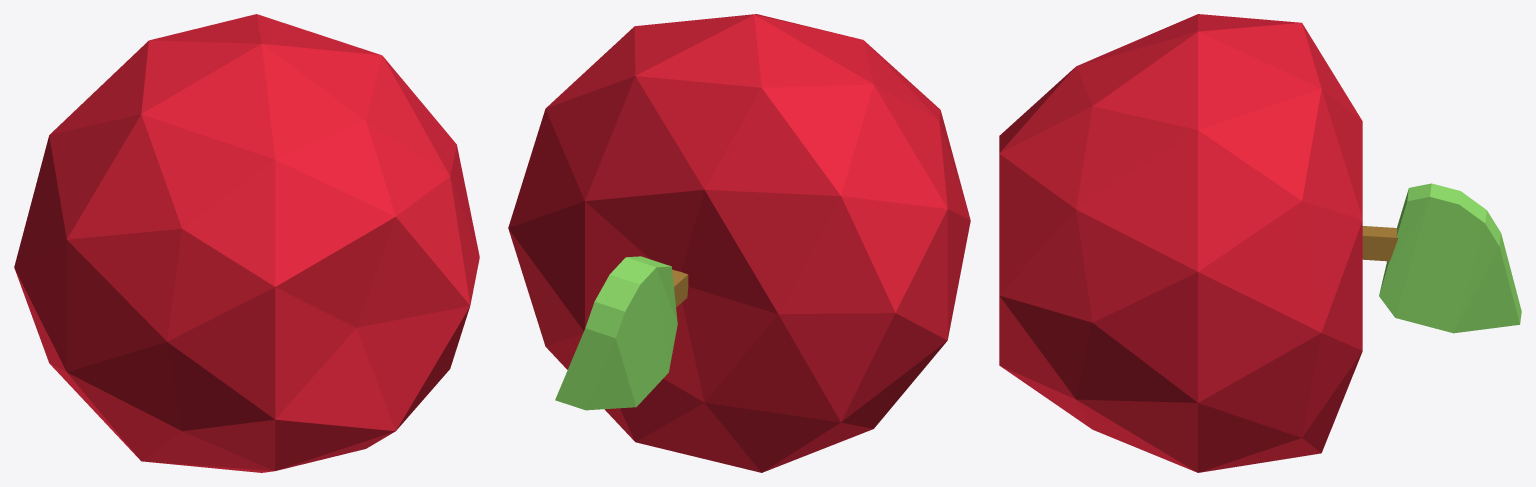
The model's file is apple.dae.
3 renders of one model, left to right at view 1: azimuth 30°, elevation 25°; view 2: azimuth 150°, elevation 25°; view 3: azimuth 270°, elevation 25°, orthographic.
Parts seen in each view (by area): view 1: Icosphere; view 2: Icosphere, Cube.001; view 3: Icosphere, Cube.001, Cube.
Part boxes in pixels (x1,y1,x2,y2): Icosphere: [14, 14, 479, 472]; Icosphere: [508, 14, 970, 472]; Cube.001: [555, 256, 677, 410]; Icosphere: [999, 14, 1362, 472]; Cube.001: [1379, 183, 1521, 333]; Cube: [1362, 226, 1398, 261].
Bounding box in the file's own units: 1.9 × 2.23 × 2.
